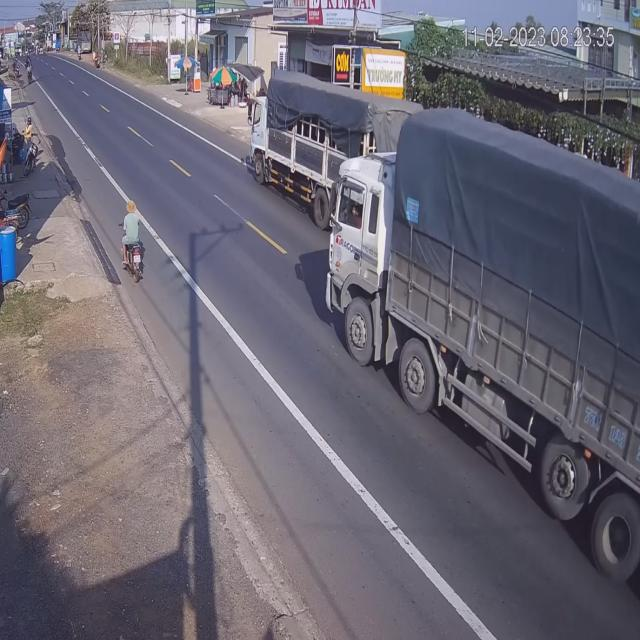motorbike: (122, 202, 147, 282)
truck: (330, 140, 640, 533), (248, 75, 348, 216)
